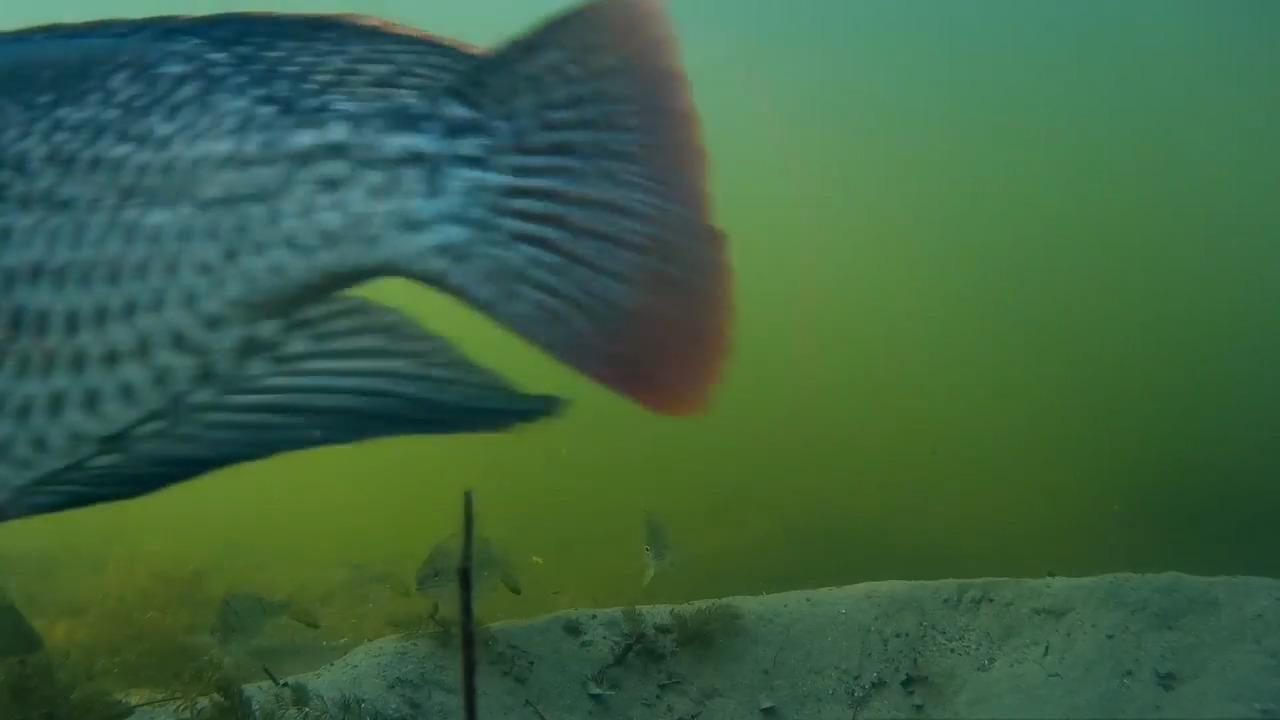Tilapia: (0, 2, 742, 541), (404, 522, 553, 618), (194, 586, 349, 672), (586, 510, 705, 594)
